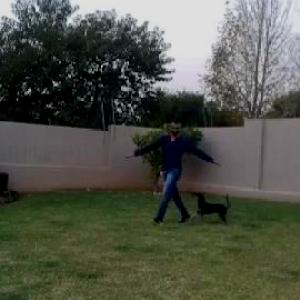land: (144, 116, 226, 212)
